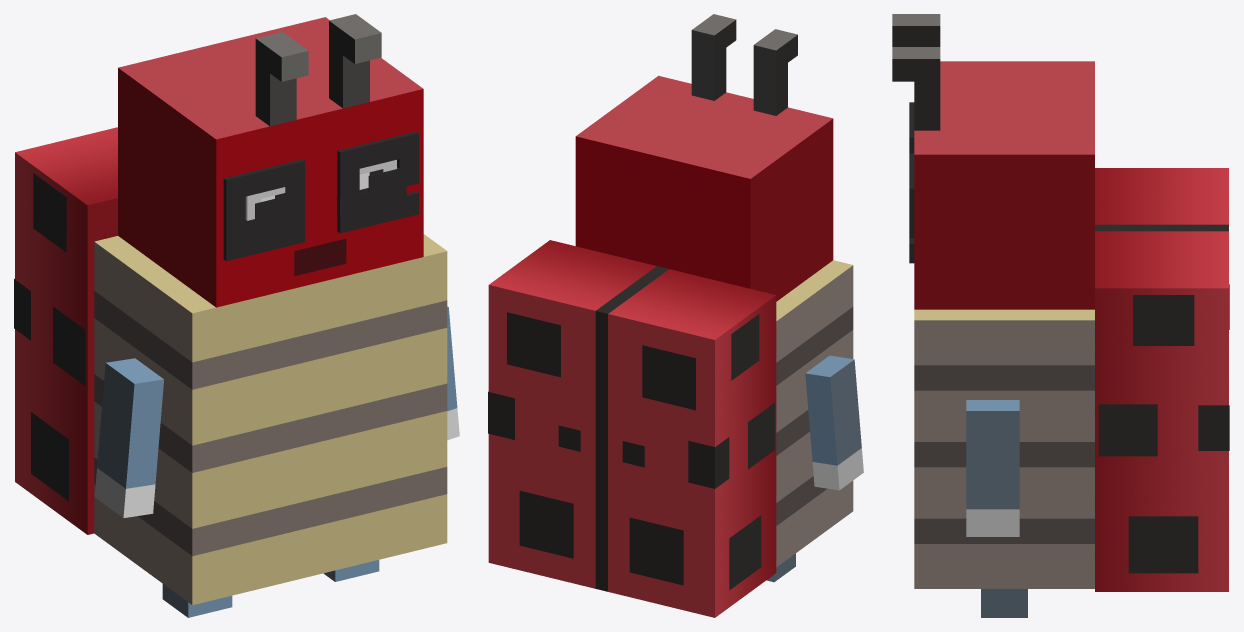
3 renders of one model, left to right at view 1: azimuth 30°, elevation 25°; view 2: azimuth 150°, elevation 25°; view 3: azimuth 270°, elevation 25°, orthographic. The views are drawn at different scales.
Visible parts, largest first — view 1: Ch_210, Ch_210_Head, Ch_210_Cover_R, Ch_210_Arm_L, Ch_210_Eye_03_R, Ch_210_Eye_03_L, Ch_210_Eye_02, Ch_210_Eye_01, Ch_210_Arm_R, Ch_210_Leg_L, Ch_210_Leg_R; view 2: Ch_210_Cover_R, Ch_210_Head, Ch_210_Cover_L, Ch_210, Ch_210_Arm_L; view 3: Ch_210_Cover_L, Ch_210_Head, Ch_210, Ch_210_Cover_R, Ch_210_Arm_R, Ch_210_Leg_R, Ch_210_Eye_03_R.
Part boxes in pixels (x1,y1,x2,y2): Ch_210: (94, 234, 447, 605); Ch_210_Head: (118, 14, 423, 307); Ch_210_Cover_R: (14, 127, 117, 534); Ch_210_Arm_L: (94, 358, 163, 518); Ch_210_Eye_03_R: (337, 131, 418, 233); Ch_210_Eye_03_L: (223, 159, 304, 261); Ch_210_Eye_02: (245, 186, 406, 235); Ch_210_Eye_01: (245, 160, 396, 220); Ch_210_Arm_R: (447, 306, 459, 440); Ch_210_Leg_L: (162, 584, 232, 617); Ch_210_Leg_R: (323, 560, 379, 581); Ch_210_Cover_R: (602, 267, 776, 617); Ch_210_Head: (575, 14, 833, 301); Ch_210_Cover_L: (488, 240, 662, 590); Ch_210: (776, 260, 853, 567); Ch_210_Arm_L: (805, 355, 863, 490); Ch_210_Cover_L: (1095, 228, 1229, 591); Ch_210_Head: (892, 14, 1094, 309); Ch_210: (914, 309, 1094, 588); Ch_210_Cover_R: (1095, 168, 1229, 329); Ch_210_Arm_R: (966, 400, 1019, 536); Ch_210_Leg_R: (981, 589, 1027, 617); Ch_210_Eye_03_R: (909, 153, 914, 263).
Size of the model in its own units: 5.59 by 9.28 by 5.26.
